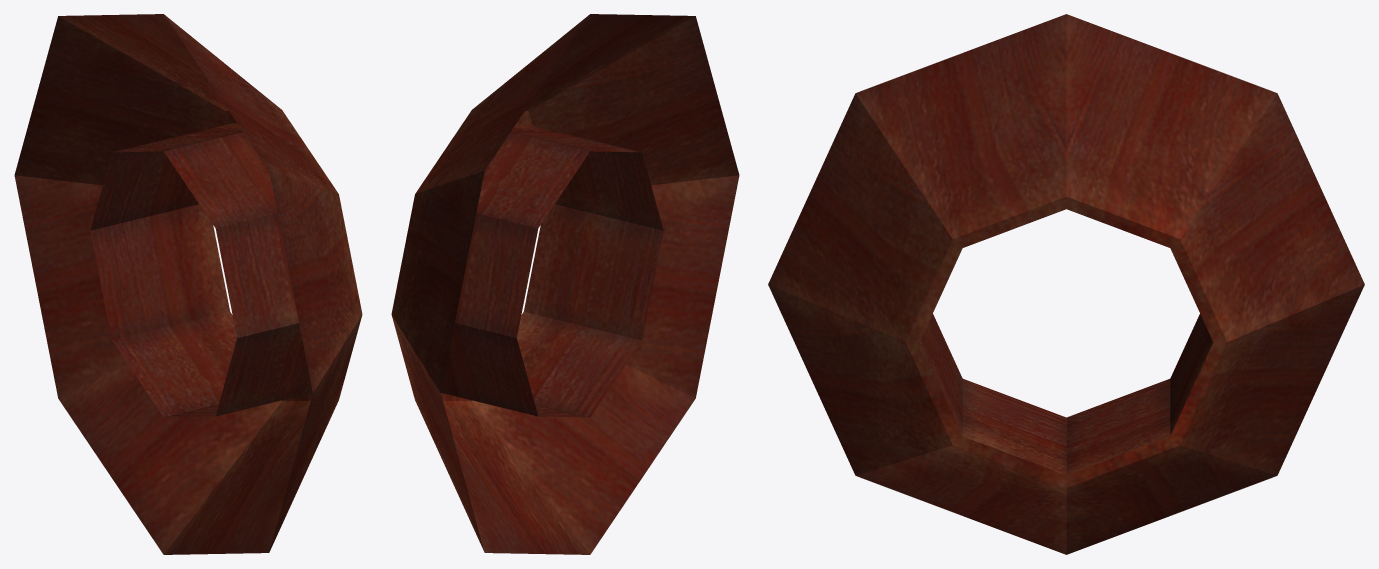
File: dragonspear_tube.fbx
The picture shows the model from 3 angles, left to right: view 1: azimuth 30°, elevation 25°; view 2: azimuth 150°, elevation 25°; view 3: azimuth 270°, elevation 25°; orthographic projection.
Parts seen in each view (by area): view 1: tube; view 2: tube; view 3: tube.
Boxes of the visible parts, box(x1,y1,x2,y2) form: tube: box(14, 14, 362, 554); tube: box(391, 14, 739, 554); tube: box(768, 14, 1364, 554).
Bounding box in the file's own units: 1.95 × 8.52 × 8.52.
